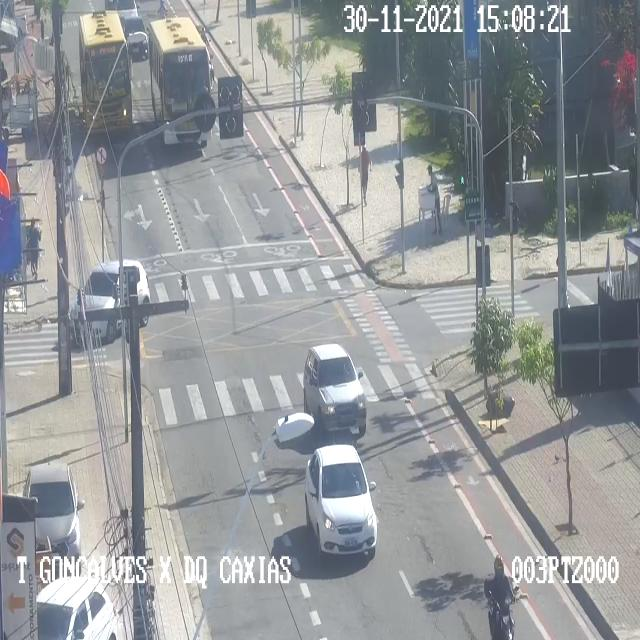Bus: (148, 17, 212, 145), (78, 12, 132, 134)
Car: (304, 444, 376, 556), (70, 260, 150, 342), (24, 462, 80, 572), (302, 343, 366, 435), (36, 576, 116, 639), (120, 14, 148, 57), (108, 0, 147, 29)
Motorcycle: (484, 554, 518, 639), (156, 0, 170, 23)
